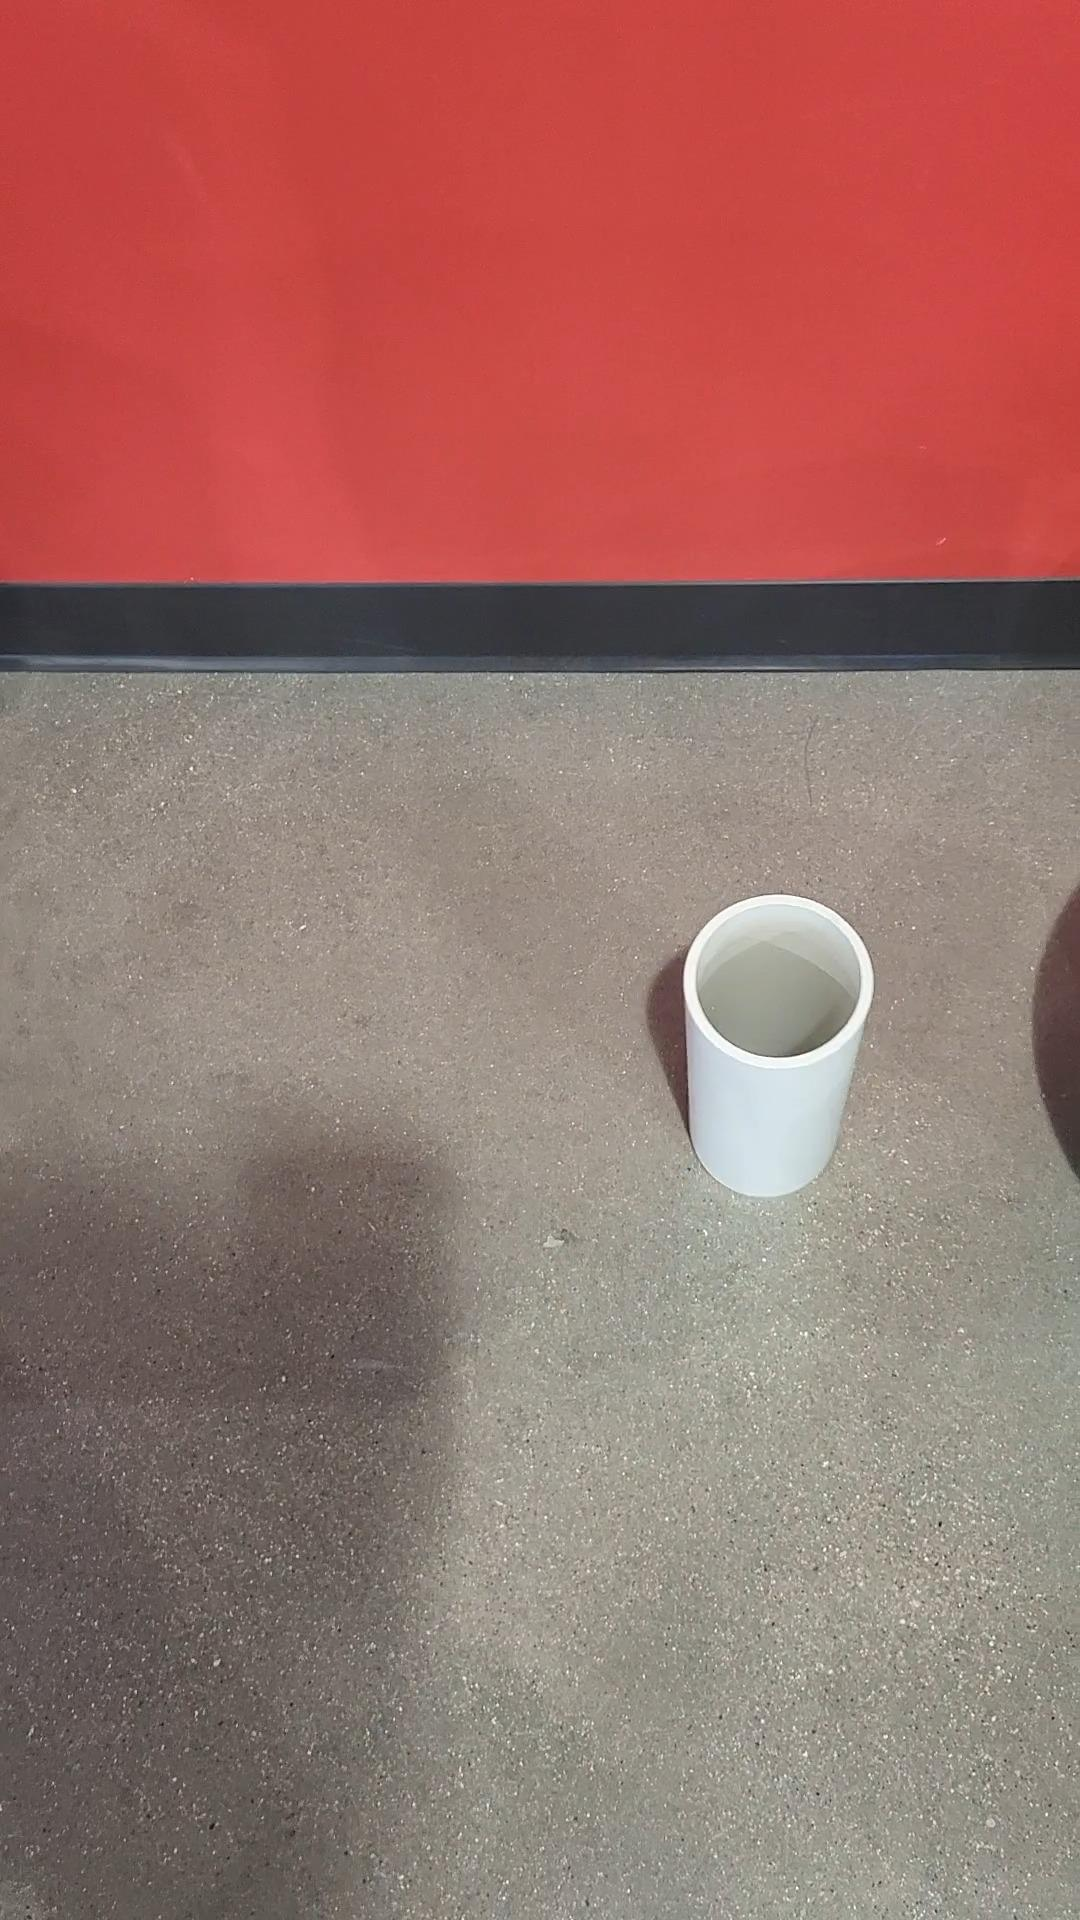coral: (682, 890, 877, 1203)
